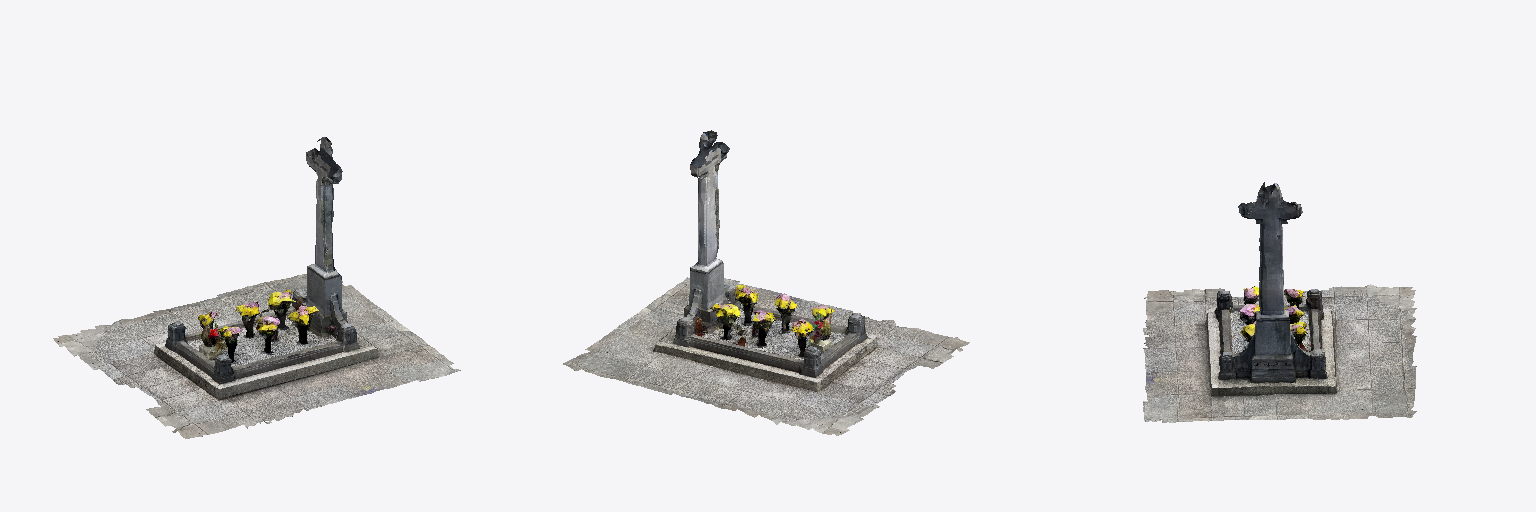
The picture shows the model from 3 angles: view 1: azimuth 30°, elevation 25°; view 2: azimuth 150°, elevation 25°; view 3: azimuth 270°, elevation 25°; orthographic projection.
Parts seen in each view (by area): view 1: memorialmodel_lp_memorialmodel; view 2: memorialmodel_lp_memorialmodel; view 3: memorialmodel_lp_memorialmodel.
Boxes of the visible parts, x1=… form: memorialmodel_lp_memorialmodel: x1=53, y1=137, x2=460, y2=438; memorialmodel_lp_memorialmodel: x1=563, y1=130, x2=969, y2=435; memorialmodel_lp_memorialmodel: x1=1143, y1=182, x2=1416, y2=422.
Bounding box in the file's own units: 4.57 × 3.29 × 3.88.
1 materials, 1 textured.